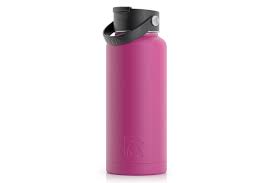bottle: (101, 4, 172, 178)
